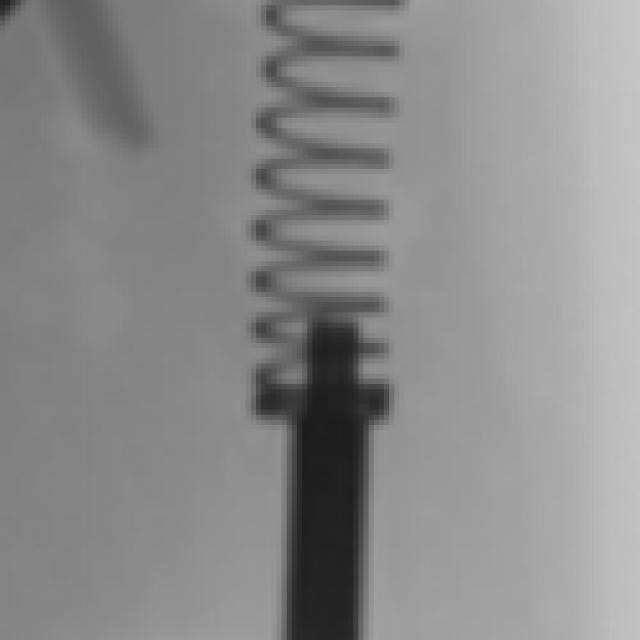GUN: (252, 337, 396, 640)
